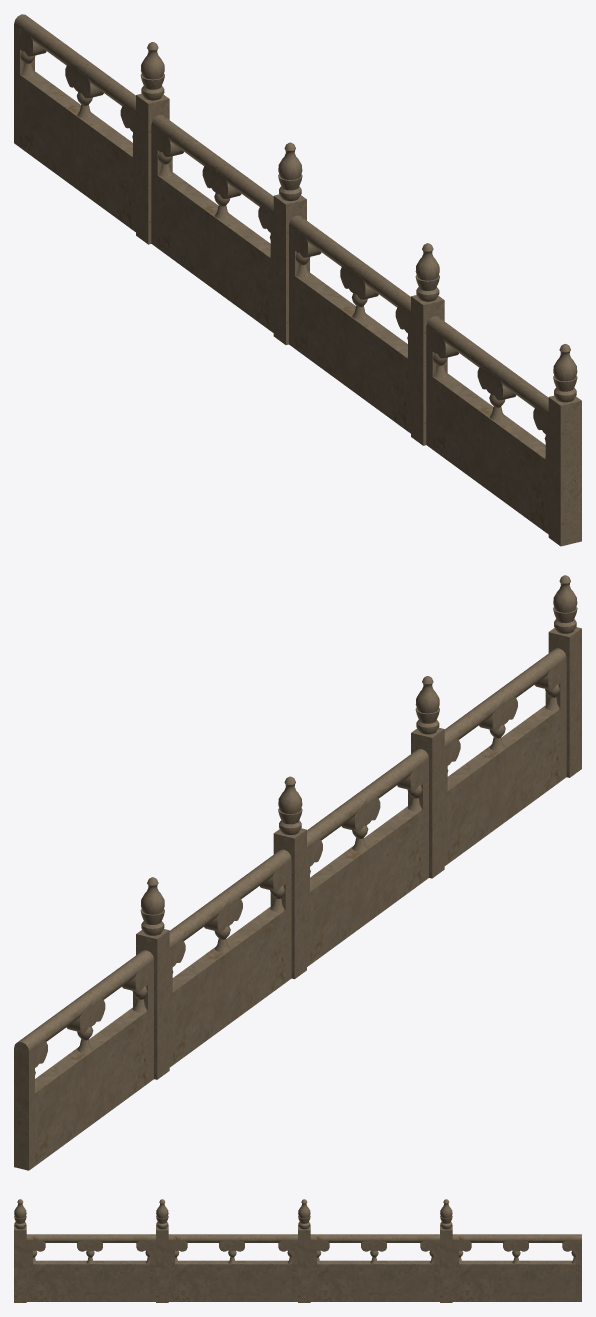
The model's file is marble_fence.glb.
The picture shows the model from 3 angles, top to bottom: view 1: azimuth 30°, elevation 25°; view 2: azimuth 150°, elevation 25°; view 3: azimuth 270°, elevation 25°; orthographic projection. The views are drawn at different scales.
Parts seen in each view (by area): view 1: Cube.004, Cube.001, Cube.003, Cube.002; view 2: Cube.003, Cube.002, Cube.004, Cube.001; view 3: Cube.001, Cube.004, Cube.002, Cube.003.
Part boxes in pixels (left/top/right/bottom): Cube.004: left=426, top=316, right=581, bottom=546; Cube.001: left=289, top=215, right=444, bottom=445; Cube.003: left=14, top=14, right=169, bottom=244; Cube.002: left=151, top=115, right=306, bottom=344; Cube.003: left=14, top=877, right=169, bottom=1170; Cube.002: left=169, top=776, right=306, bottom=1067; Cube.004: left=444, top=575, right=581, bottom=865; Cube.001: left=307, top=676, right=444, bottom=966; Cube.001: left=156, top=1199, right=297, bottom=1302; Cube.004: left=14, top=1199, right=155, bottom=1302; Cube.002: left=298, top=1199, right=439, bottom=1302; Cube.003: left=440, top=1199, right=581, bottom=1302.
Size of the model in its own units: 0.3421 by 2.99 by 15.29.
Materials: 1 (1 with a texture image).
